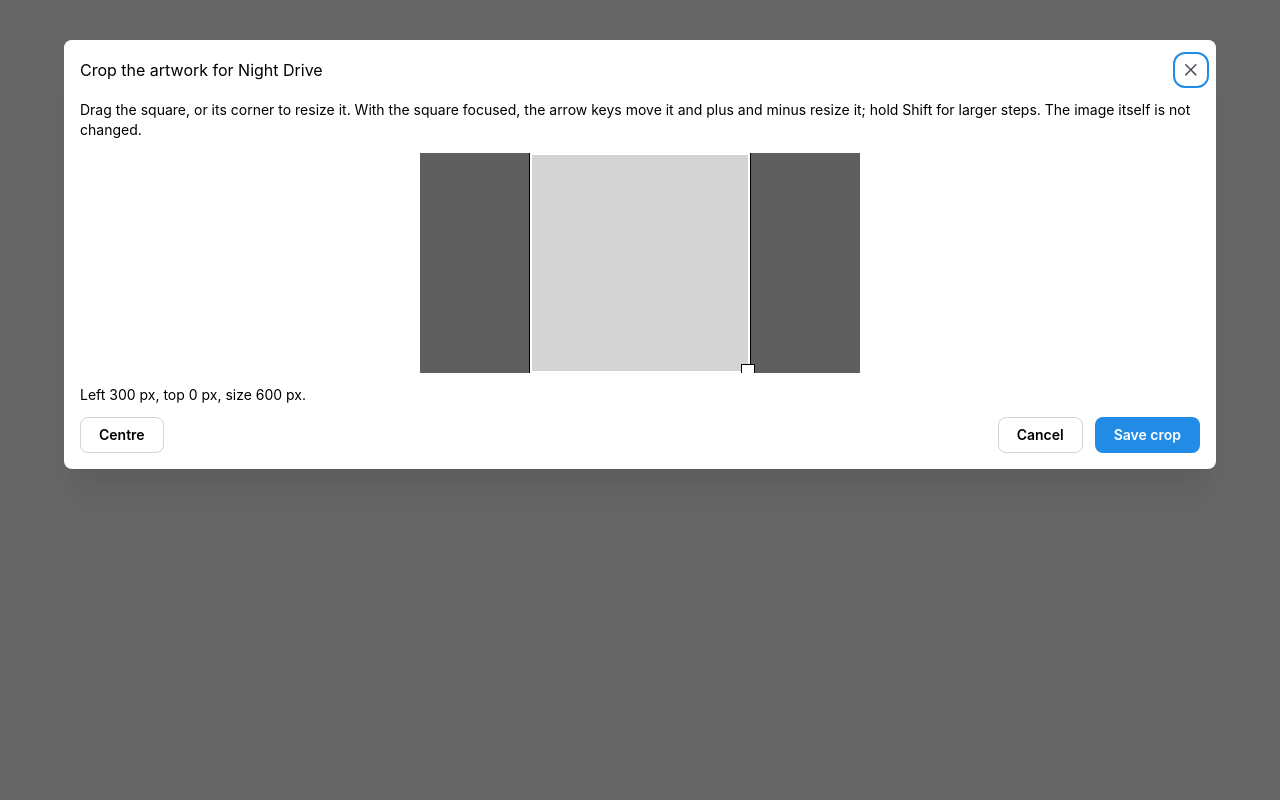
Test: the crop control › moves the square by dragging it
Step 1. Press the mouse on the element named "Crop selection" → (640, 263), box [530,153,750,373]
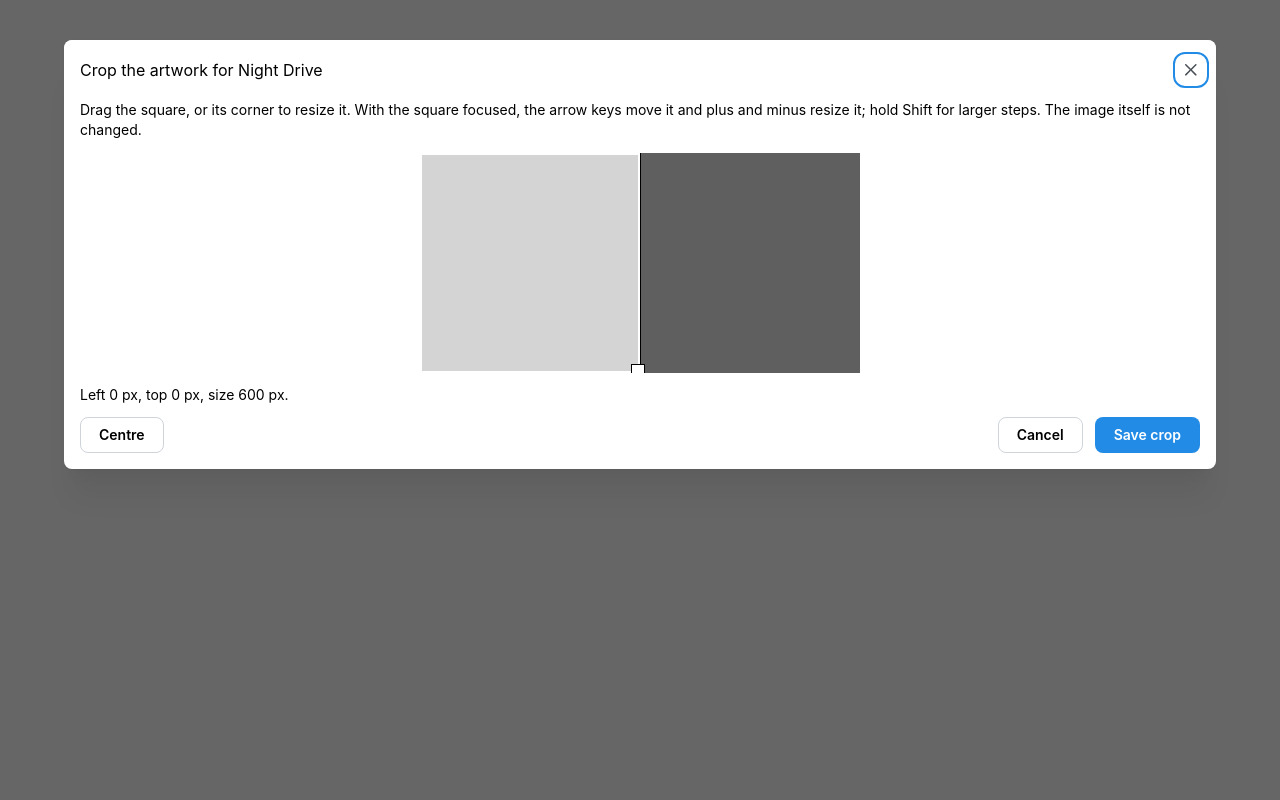
Now the message with test id "crop-position" reads "Left 0 px, top 0 px, size 600 px.", box [80,386,289,403]
